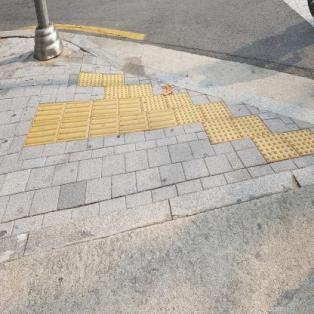Podoctatil: (20, 69, 314, 168)
